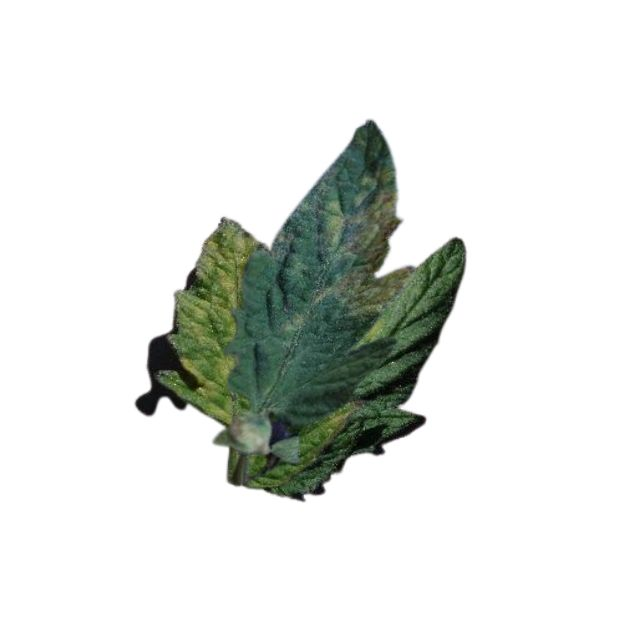Leaf_Mold: (151, 219, 259, 427), (308, 121, 416, 320), (322, 397, 360, 437)
